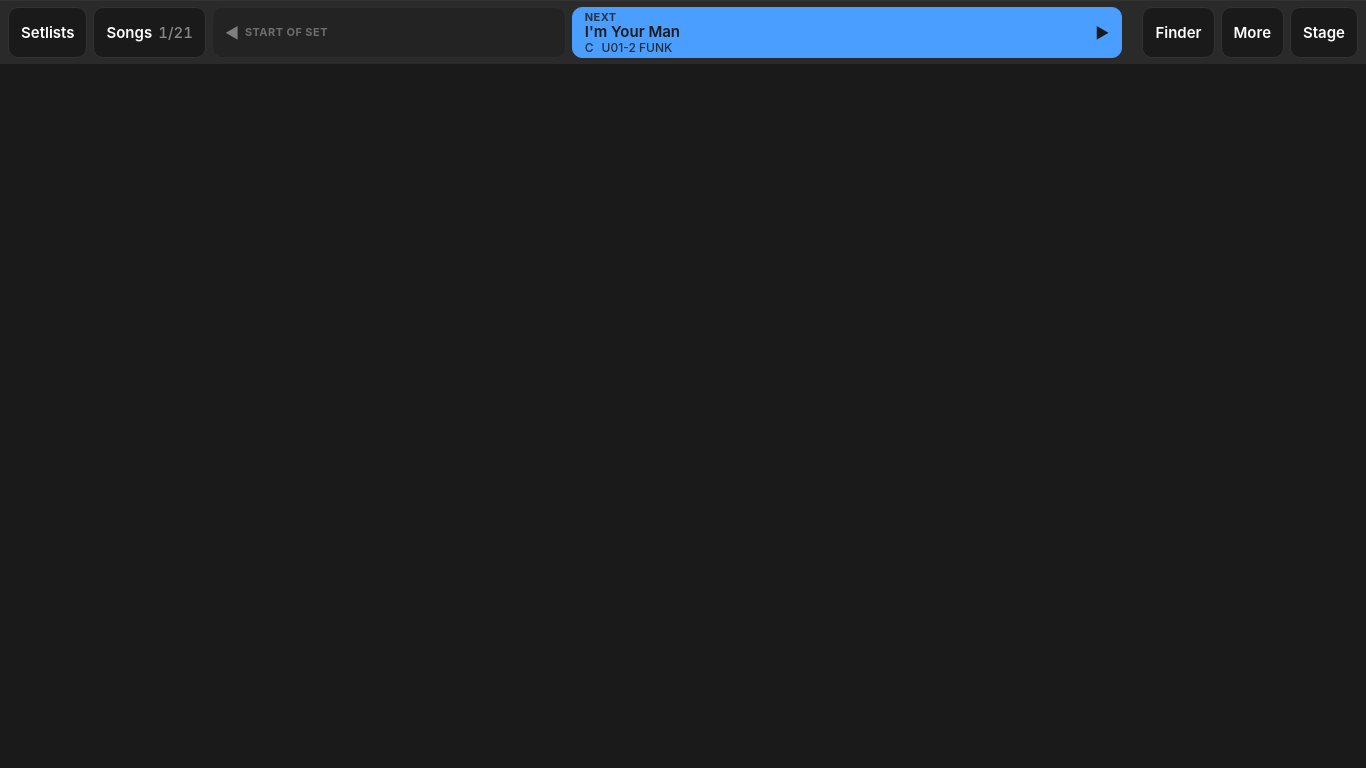
Test case: the Songs sheet › shows a song's length
Click the button with aria-label "Songs, ": click(150, 32) x1=94 y1=7 x2=206 y2=58
(page scrolled)
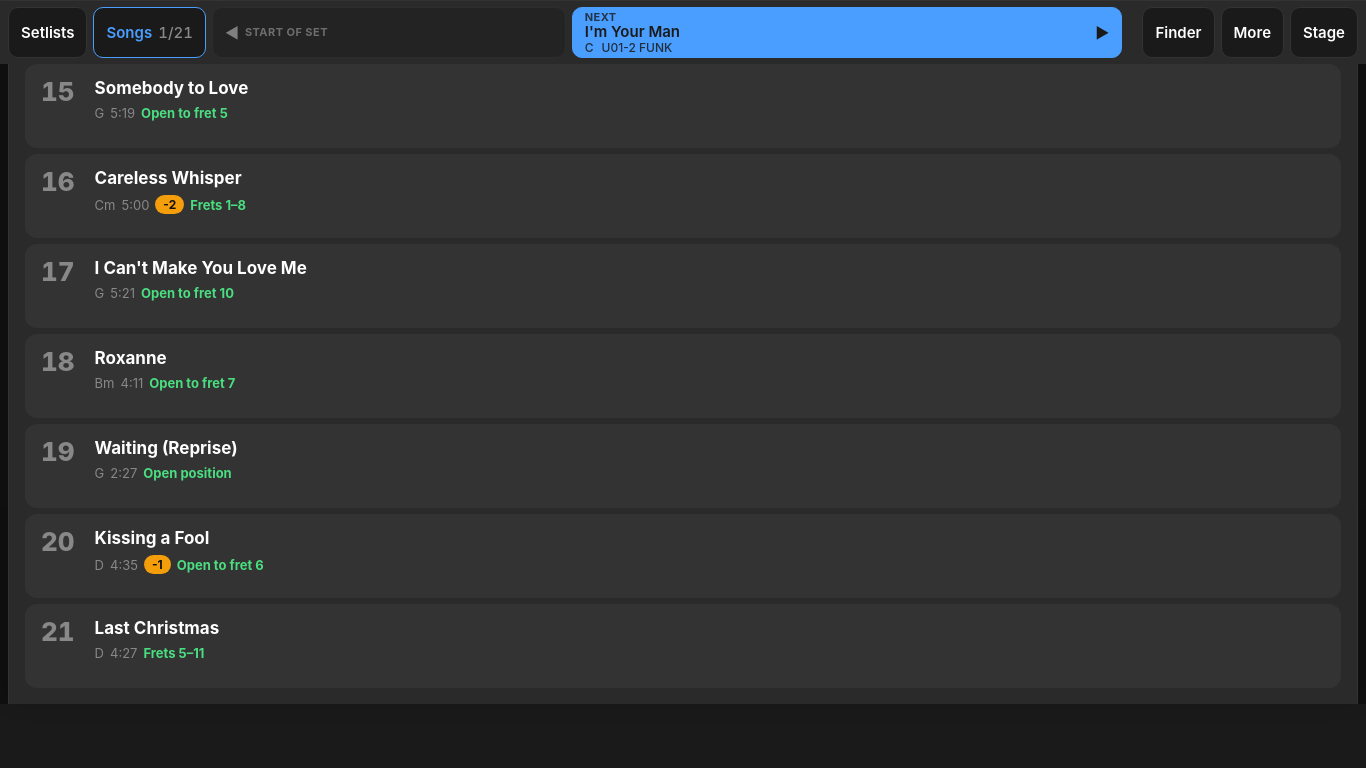
Now the text "2:27" is shown, box x1=110 y1=465 x2=137 y2=481
